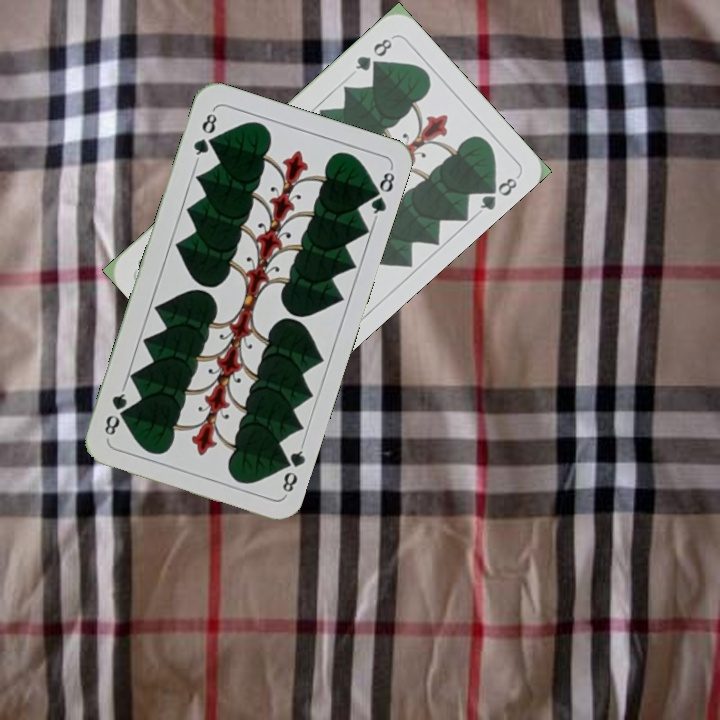G8: (351, 33, 396, 74), (189, 106, 220, 164), (276, 440, 308, 495)
